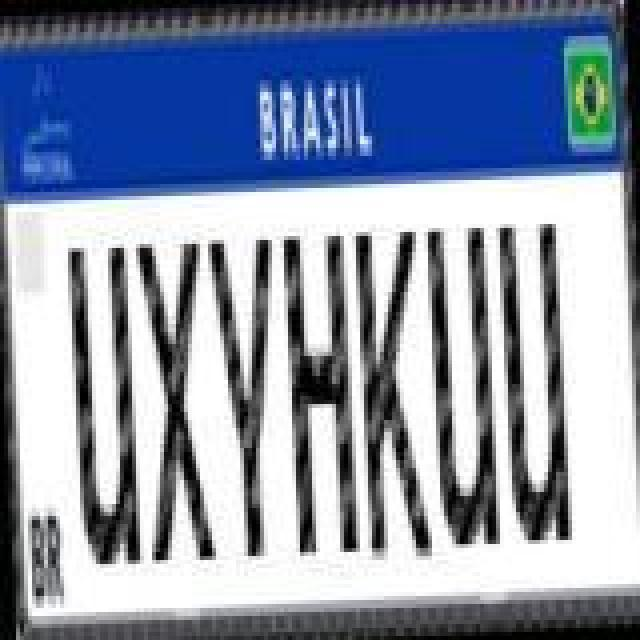H: (280, 226, 360, 558)
K: (350, 224, 434, 560)
U: (64, 238, 144, 570), (426, 218, 502, 550), (498, 218, 574, 550)
X: (134, 234, 218, 566)
Y: (208, 232, 288, 560)
